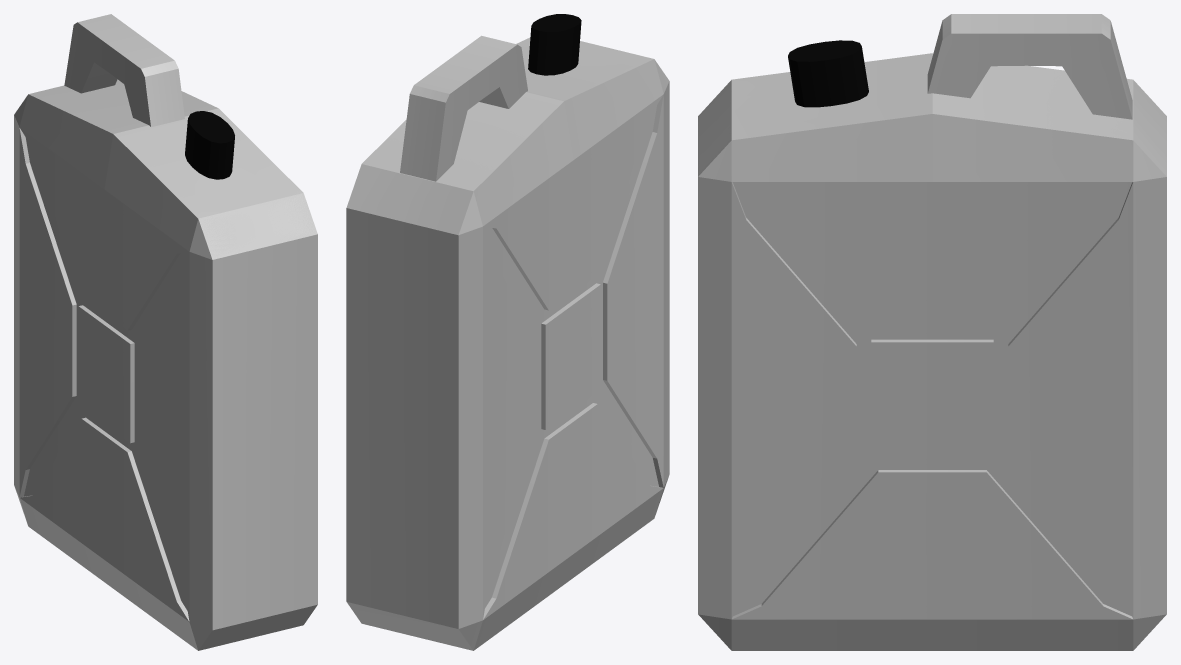
Rendered from SM_Int_Gasoline_02.fbx.
3 views of the same model, side by side, from view 1: azimuth 30°, elevation 25°; view 2: azimuth 150°, elevation 25°; view 3: azimuth 270°, elevation 25° (orthographic). The views are drawn at different scales.
Parts seen in each view (by area): view 1: SM_Int_Gasoline_02; view 2: SM_Int_Gasoline_02; view 3: SM_Int_Gasoline_02.
Part boxes in pixels (x1,y1,x2,y2): SM_Int_Gasoline_02: (14, 14, 317, 650); SM_Int_Gasoline_02: (346, 14, 669, 650); SM_Int_Gasoline_02: (698, 14, 1166, 650).
Size of the model in its own units: 35.36 by 139 by 98.82.
